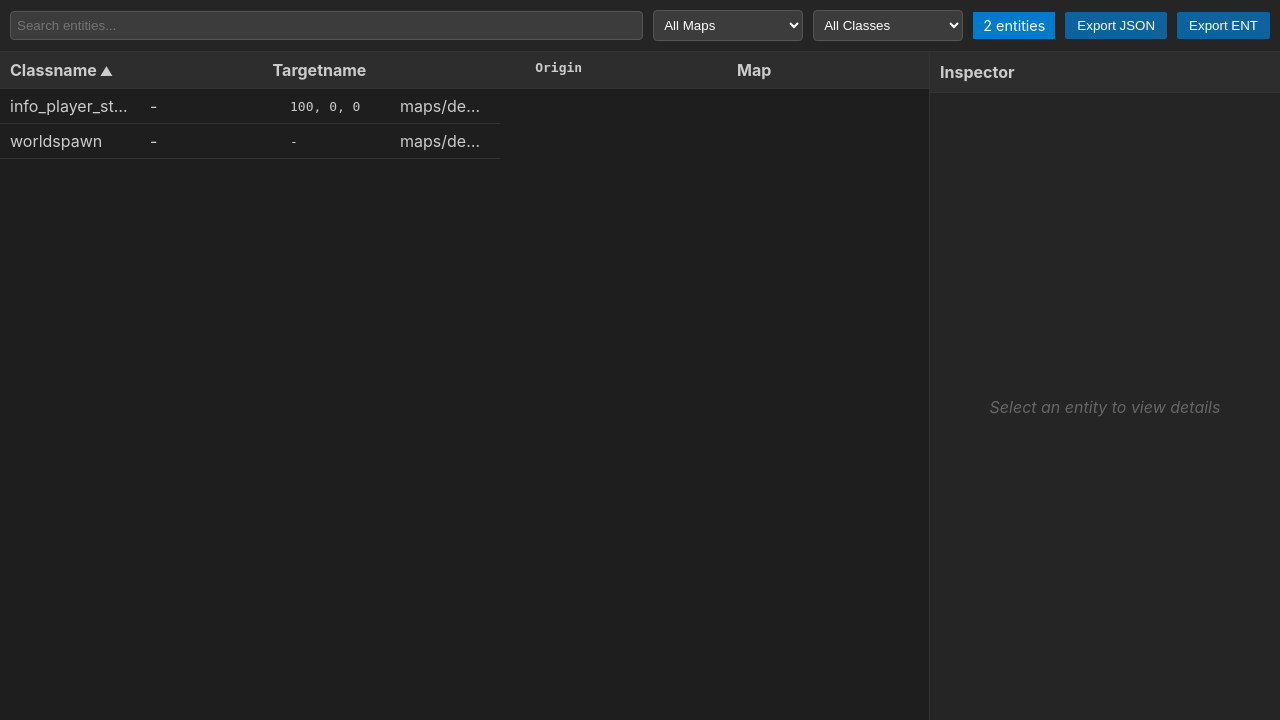
Test: EntityDatabase Integration › loads entities from mock PAK and displays them
Check: the text "2 entities" is shown, box [973,12,1055,39]
Click the text "info_player_start" at point(72, 106), box [10,96,134,116]
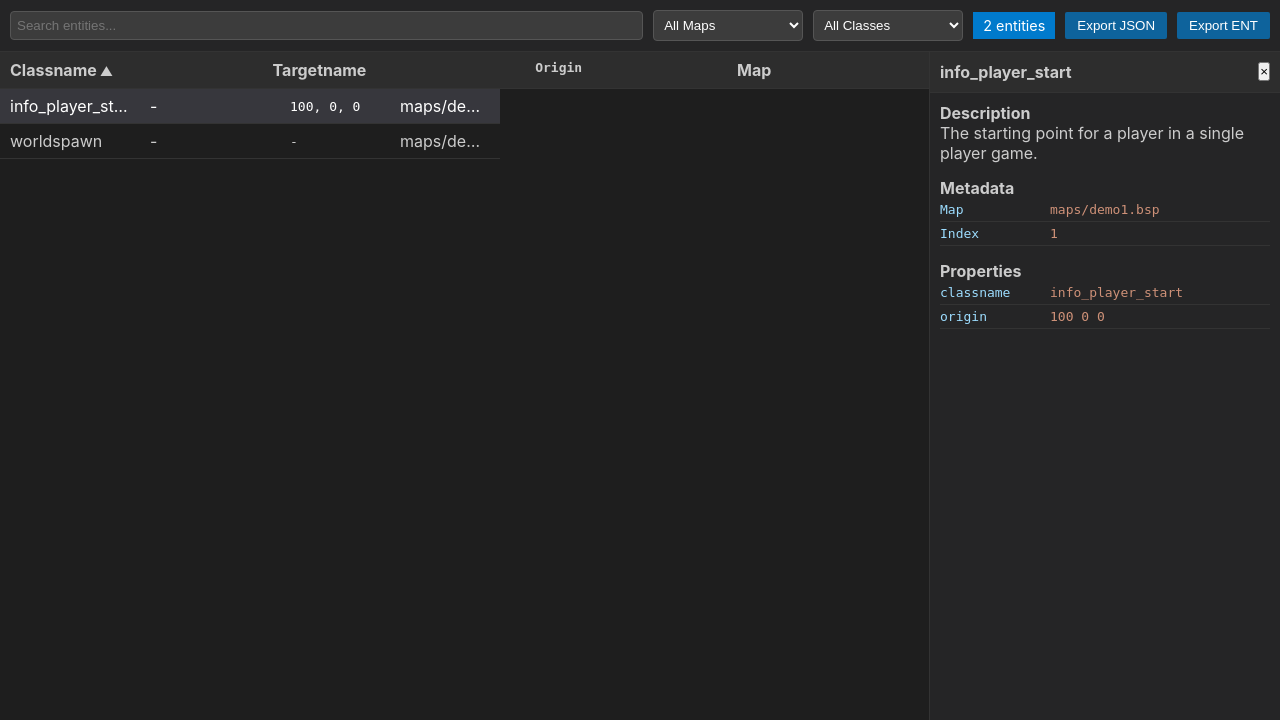
Check: the text "100, 0, 0" is shown, box [290,98,360,114]
Check: the text "origin" is shown, box [940,309,987,324]
